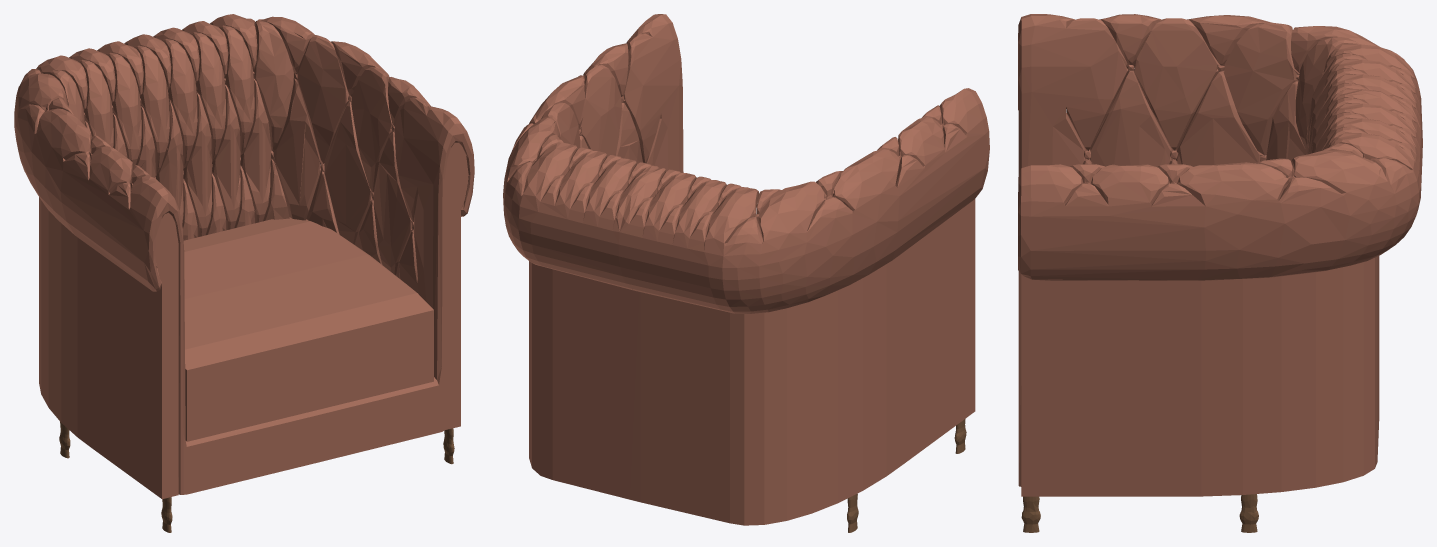
File: sh-bs0-winchester-sofa.glb
3 renders of one model, left to right at view 1: azimuth 30°, elevation 25°; view 2: azimuth 150°, elevation 25°; view 3: azimuth 270°, elevation 25°, orthographic. The views are drawn at different scales.
Visible parts, largest first — view 1: Plane.001_Plane, Circle.006_Circle.007; view 2: Plane.001_Plane, Circle.006_Circle.007; view 3: Plane.001_Plane, Circle.006_Circle.007.
Boxes of the visible parts, x1,y1,x2,y2 form: Plane.001_Plane: (14,14,474,499); Circle.006_Circle.007: (59,422,454,532); Plane.001_Plane: (503,14,989,525); Circle.006_Circle.007: (847,419,966,532); Plane.001_Plane: (1018,14,1422,496); Circle.006_Circle.007: (1021,494,1258,532).
Size of the model in its own units: 0.9978 by 1 by 1.
